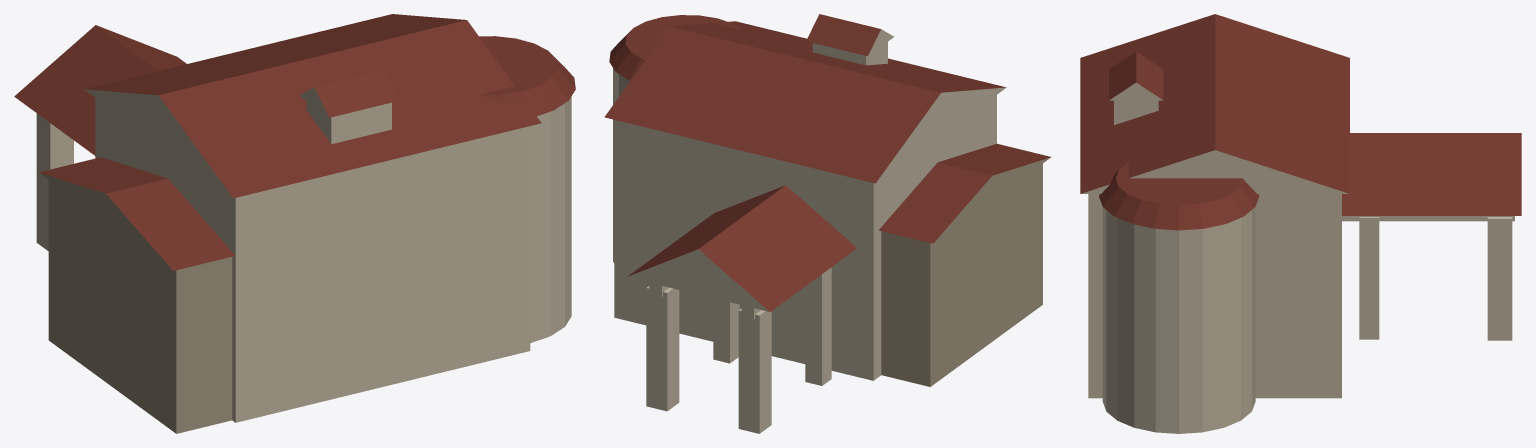
Rendered from sun-ke-villa-massing.glb.
3 views of the same model, side by side, from view 1: azimuth 30°, elevation 25°; view 2: azimuth 150°, elevation 25°; view 3: azimuth 270°, elevation 25° (orthographic). The views are drawn at different scales.
Parts seen in each view (by area): view 1: sun-ke-villa-massing; view 2: sun-ke-villa-massing; view 3: sun-ke-villa-massing.
Part boxes in pixels (x1,y1,x2,y2): sun-ke-villa-massing: (14, 14, 575, 433); sun-ke-villa-massing: (604, 14, 1051, 433); sun-ke-villa-massing: (1080, 14, 1521, 433).
Bounding box in the file's own units: 7.41 × 4.67 × 7.1.
